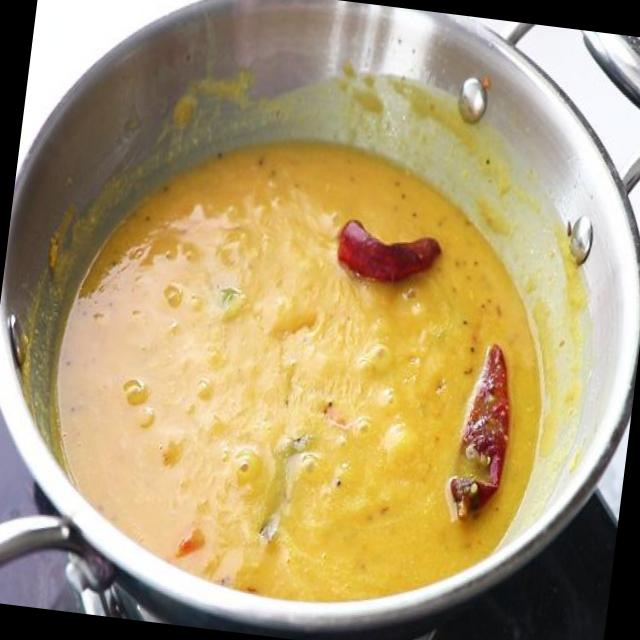dal: (32, 114, 573, 628)
